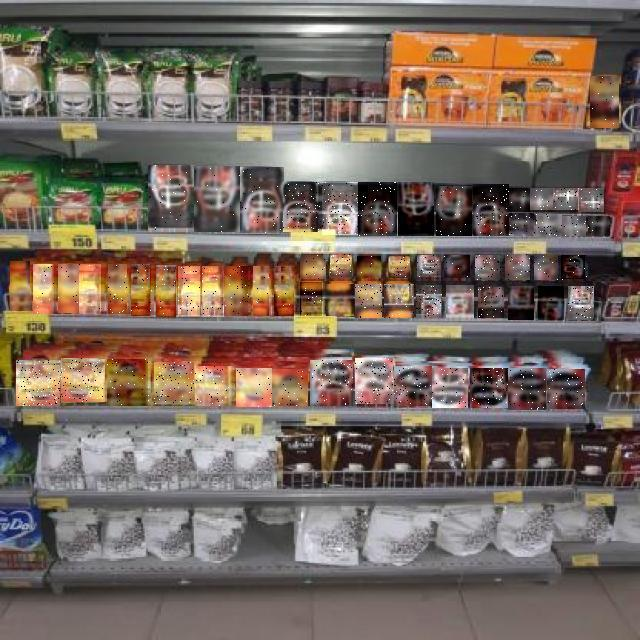Coffee: (148, 166, 194, 232), (194, 166, 240, 232), (241, 167, 285, 233), (358, 182, 397, 236), (16, 360, 61, 406), (310, 360, 353, 406), (108, 359, 150, 406), (398, 182, 434, 236), (61, 358, 105, 402), (322, 182, 358, 235), (284, 182, 322, 232), (473, 184, 509, 236), (436, 186, 472, 236), (355, 359, 393, 405), (154, 362, 194, 404), (508, 368, 546, 410), (196, 366, 234, 406), (394, 366, 432, 406), (470, 369, 508, 409), (547, 369, 585, 409), (590, 77, 619, 129), (432, 369, 468, 409), (236, 368, 272, 407), (272, 369, 308, 406), (80, 264, 104, 314), (226, 267, 250, 317), (132, 264, 154, 316), (202, 266, 224, 317), (34, 264, 56, 314), (178, 266, 200, 316), (58, 264, 80, 313), (156, 265, 176, 317), (384, 284, 414, 318), (10, 261, 30, 311), (274, 267, 294, 317), (446, 286, 474, 320), (108, 264, 127, 314), (355, 284, 382, 318), (326, 284, 354, 316), (508, 286, 534, 320), (568, 286, 594, 320), (538, 286, 564, 320), (416, 286, 442, 318), (479, 287, 505, 318), (253, 267, 269, 317), (300, 282, 322, 316), (562, 256, 588, 282), (476, 255, 502, 280), (505, 255, 530, 281), (579, 188, 605, 212), (300, 255, 326, 279), (444, 256, 470, 280), (534, 255, 558, 281), (536, 214, 562, 237), (417, 256, 441, 280), (553, 188, 579, 210), (510, 214, 536, 236), (508, 188, 530, 212), (330, 254, 352, 278), (357, 256, 381, 278), (530, 188, 553, 210), (388, 256, 410, 278), (563, 216, 587, 236), (588, 216, 610, 236)
